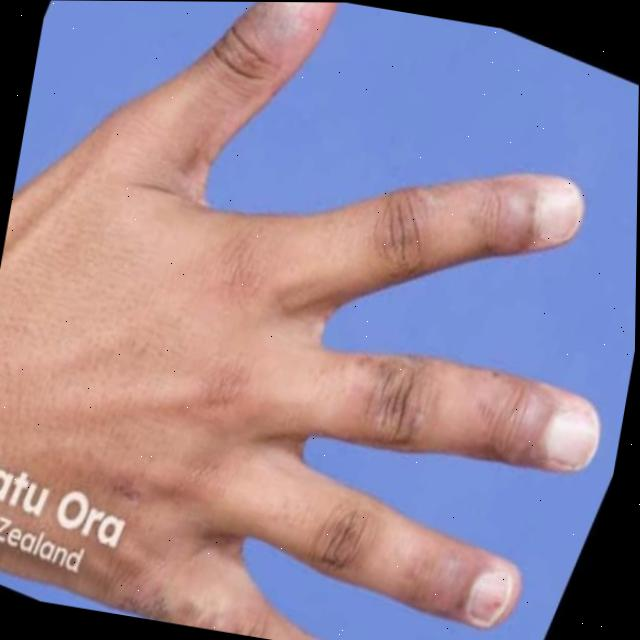Eczema: (418, 542, 473, 619), (508, 383, 552, 476), (487, 191, 546, 251)
